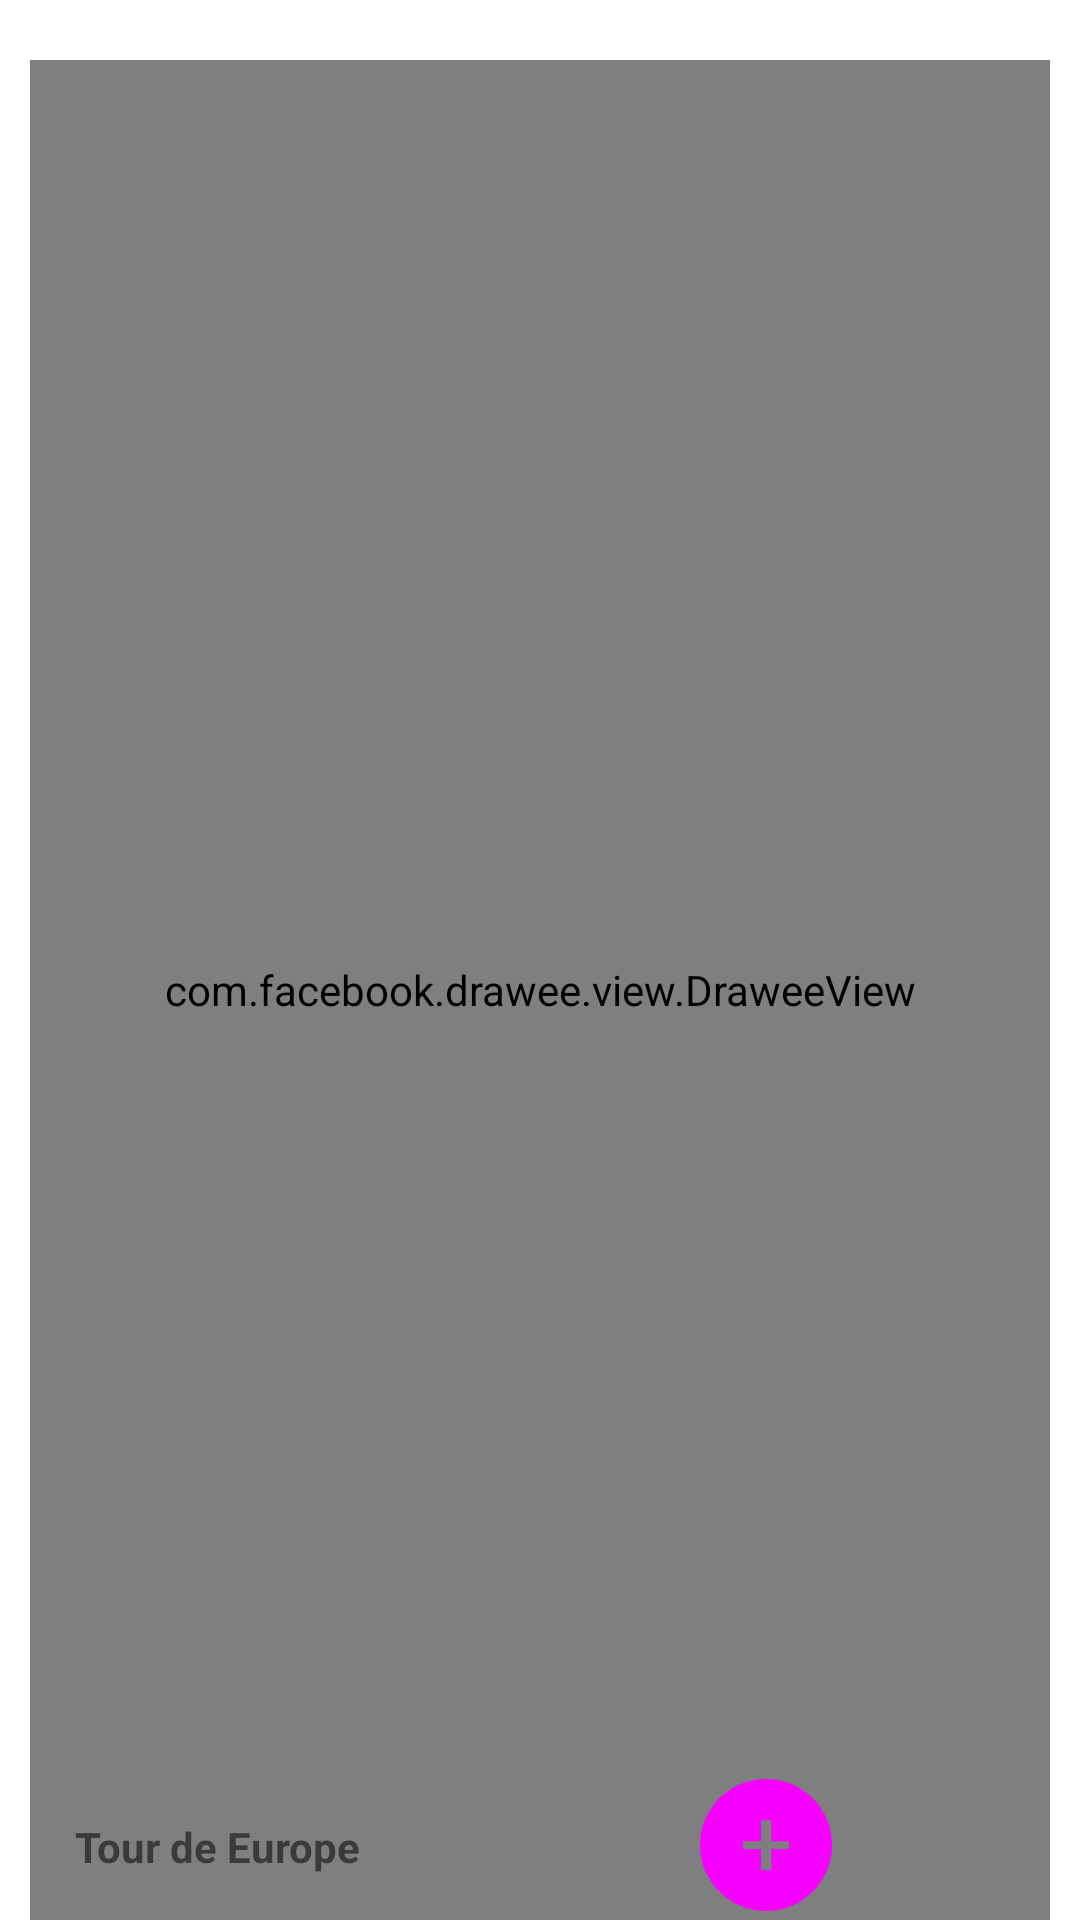

Icons on this 1080 x 1920 Android screen, each with its box as (x1, y1, x2, y2):
add to album: (700, 1779, 832, 1911)
